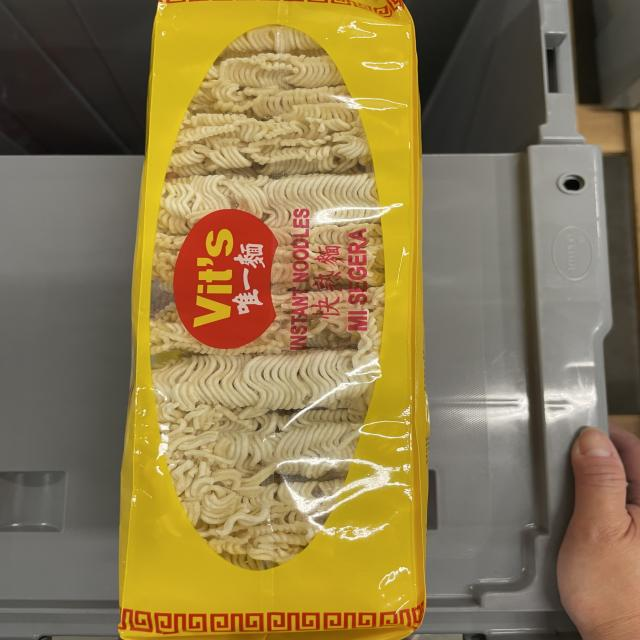object_name: (150, 10, 421, 637)
